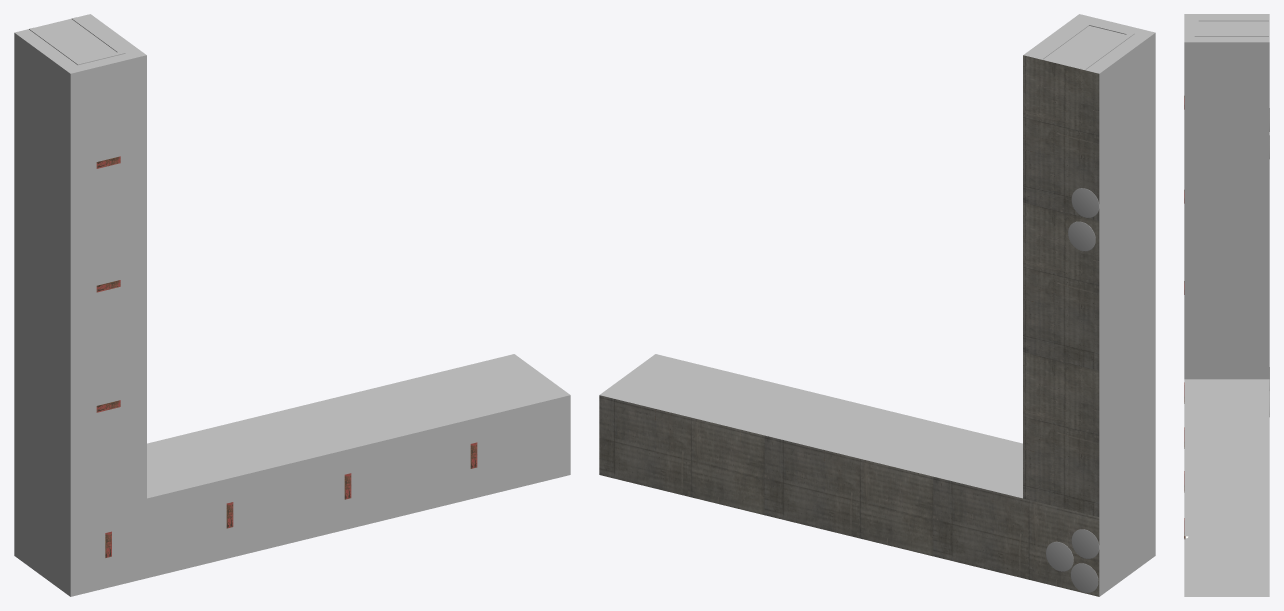
Rendered from Haunted_Hallway.fbx.
The picture shows the model from 3 angles, left to right: view 1: azimuth 30°, elevation 25°; view 2: azimuth 150°, elevation 25°; view 3: azimuth 270°, elevation 25°; orthographic projection. The views are drawn at different scales.
Visible parts, largest first — view 1: Cube.018, Cube.002, Cube.003, Cube.017, Cube, Cube.005; view 2: Cube.020, Cube.004, Cube.003, Cube.017, Cube, Cube.005; view 3: Cube.001, Cube.017, Cube.019, Cube, Cube.005.
Boxes of the visible parts, box(x1,y1,x2,y2) form: Cube.018: box(70, 395, 570, 596); Cube.002: box(70, 55, 146, 516); Cube.003: box(14, 33, 70, 596); Cube.017: box(147, 354, 570, 498); Cube: box(14, 14, 146, 73); Cube.005: box(29, 17, 125, 65); Cube.020: box(599, 395, 1099, 596); Cube.004: box(1023, 55, 1099, 516); Cube.003: box(1099, 33, 1155, 596); Cube.017: box(599, 354, 1022, 498); Cube: box(1023, 14, 1155, 73); Cube.005: box(1038, 22, 1134, 69); Cube.001: box(1184, 42, 1269, 379); Cube.017: box(1184, 379, 1269, 536); Cube.019: box(1184, 536, 1269, 596); Cube: box(1184, 14, 1269, 42); Cube.005: box(1194, 18, 1268, 36).
Bounding box in the file's own units: 1180 × 1181 × 231.
